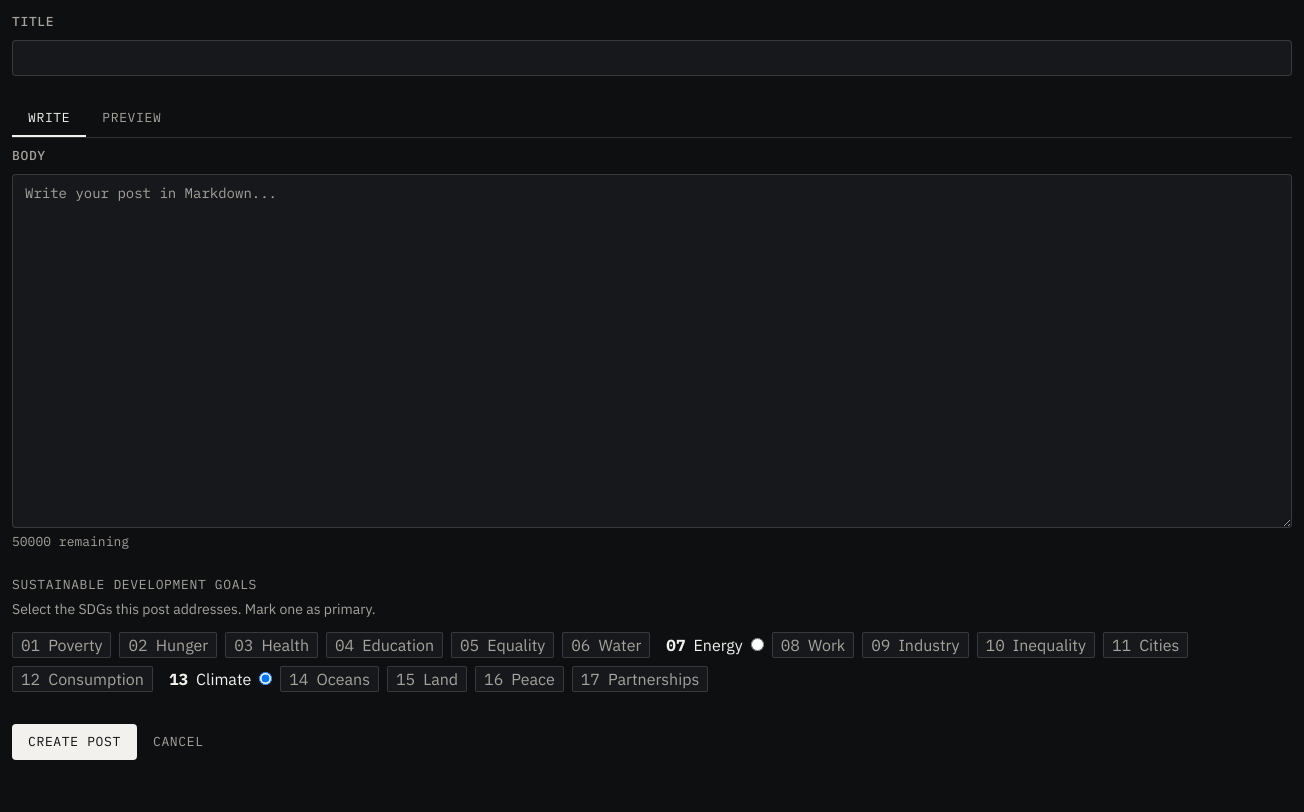
Test: PostCreateForm › preview sanitizes XSS — script tags are stripped
Step 1. Type "<script>alert(\"xss\")</script>safe text" into the text box labelled "Body" → (652, 350), box [12,174,1292,528]
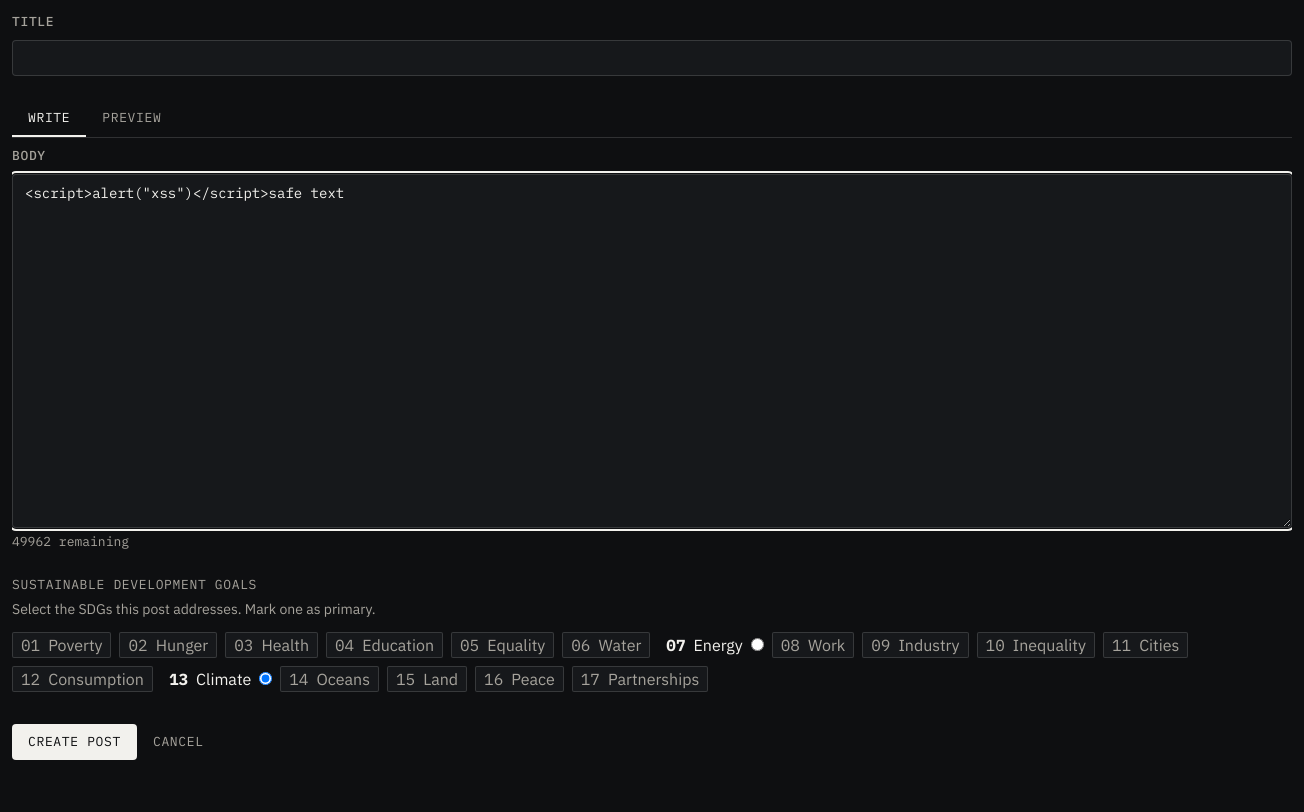
Step 2. Click the tab "Preview" → (132, 118), box [86,100,178,137]
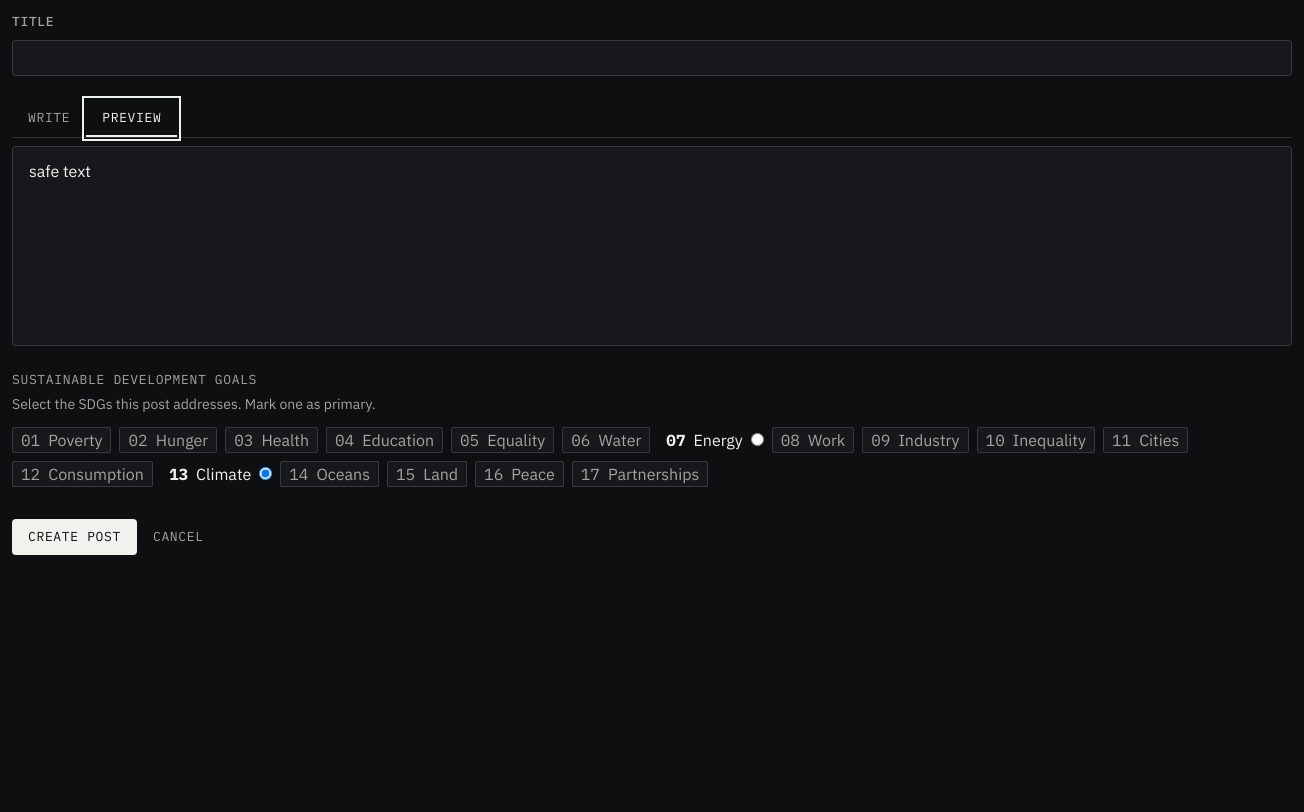
Now the element with test id "markdown-preview" reads "safe text", box [29,161,91,181]
